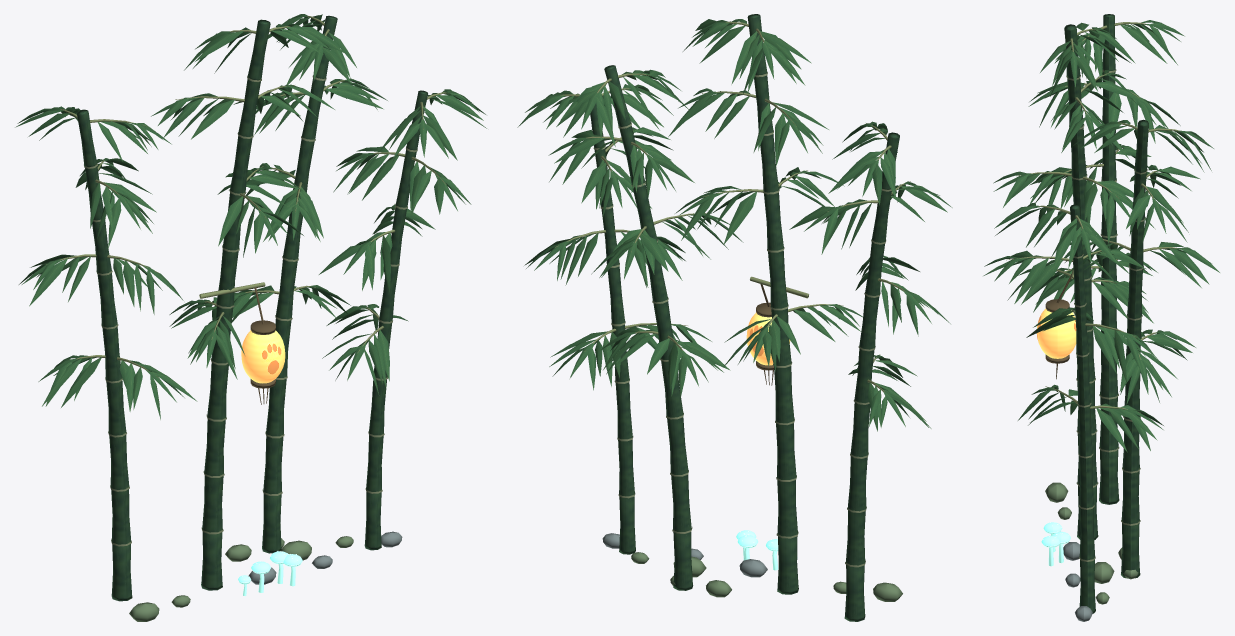
Rendered from nyanisyarud-bamboo-c.glb.
The picture shows the model from 3 angles, left to right: view 1: azimuth 30°, elevation 25°; view 2: azimuth 150°, elevation 25°; view 3: azimuth 270°, elevation 25°; orthographic projection. The views are drawn at different scales.
Visible parts, largest first — view 1: Silken bamboo leaves, Jade bamboo, Branches, Warm paper lantern, Moss green, Raised bamboo nodes, Slate stone, Bronze lantern hardware; view 2: Silken bamboo leaves, Jade bamboo, Branches, Moss green, Raised bamboo nodes, Slate stone, Warm paper lantern; view 3: Silken bamboo leaves, Jade bamboo, Branches, Warm paper lantern, Moss green, Raised bamboo nodes, Slate stone, Bronze lantern hardware, Luminous turquoise cap.
Boxes of the visible parts, x1,y1,x2,y2 form: Silken bamboo leaves: (15,14,486,419); Jade bamboo: (76,15,427,601); Branches: (46,15,449,378); Warm paper lantern: (241,330,285,383); Moss green: (129,536,353,621); Raised bamboo nodes: (84,75,417,546); Slate stone: (248,531,402,584); Bronze lantern hardware: (250,287,275,404); Silken bamboo leaves: (517,19,952,431); Jade bamboo: (590,14,899,621); Branches: (555,21,914,392); Moss green: (631,552,902,601); Raised bamboo nodes: (593,72,891,567); Slate stone: (602,533,767,577); Warm paper lantern: (746,312,790,365); Silken bamboo leaves: (983,20,1219,452); Jade bamboo: (1064,14,1148,613); Branches: (1006,22,1180,412); Warm paper lantern: (1036,308,1076,358); Moss green: (1045,482,1138,604); Raised bamboo nodes: (1066,69,1147,561); Slate stone: (1063,542,1092,621); Bronze lantern hardware: (1045,274,1071,379); Luminous turquoise cap: (1041,522,1070,545).
Bounding box in the file's own units: 5.59 × 6.84 × 2.78.
11 materials, 3 textured.
